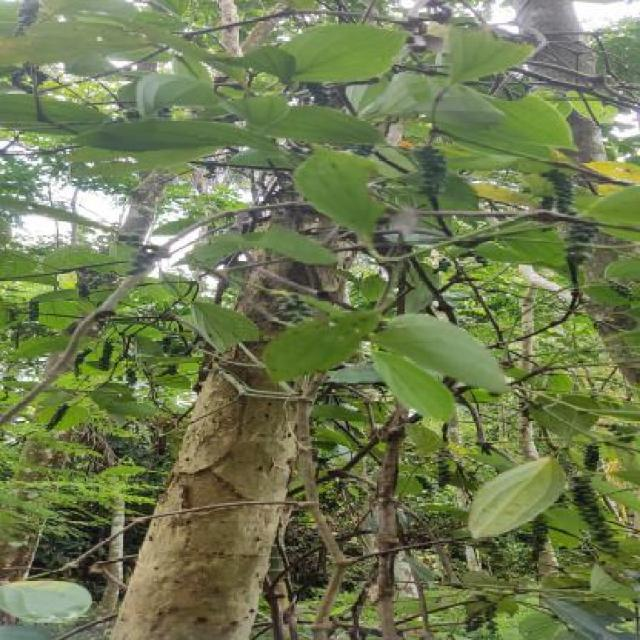UNRIPE: (536, 170, 602, 261), (574, 476, 620, 556), (414, 144, 451, 195), (123, 228, 163, 274), (529, 514, 554, 561), (13, 2, 47, 33), (36, 404, 79, 428), (431, 449, 458, 486), (280, 294, 311, 323), (69, 347, 97, 378), (305, 84, 336, 104), (97, 342, 117, 371), (585, 446, 605, 469), (612, 281, 635, 301), (74, 281, 97, 298)
